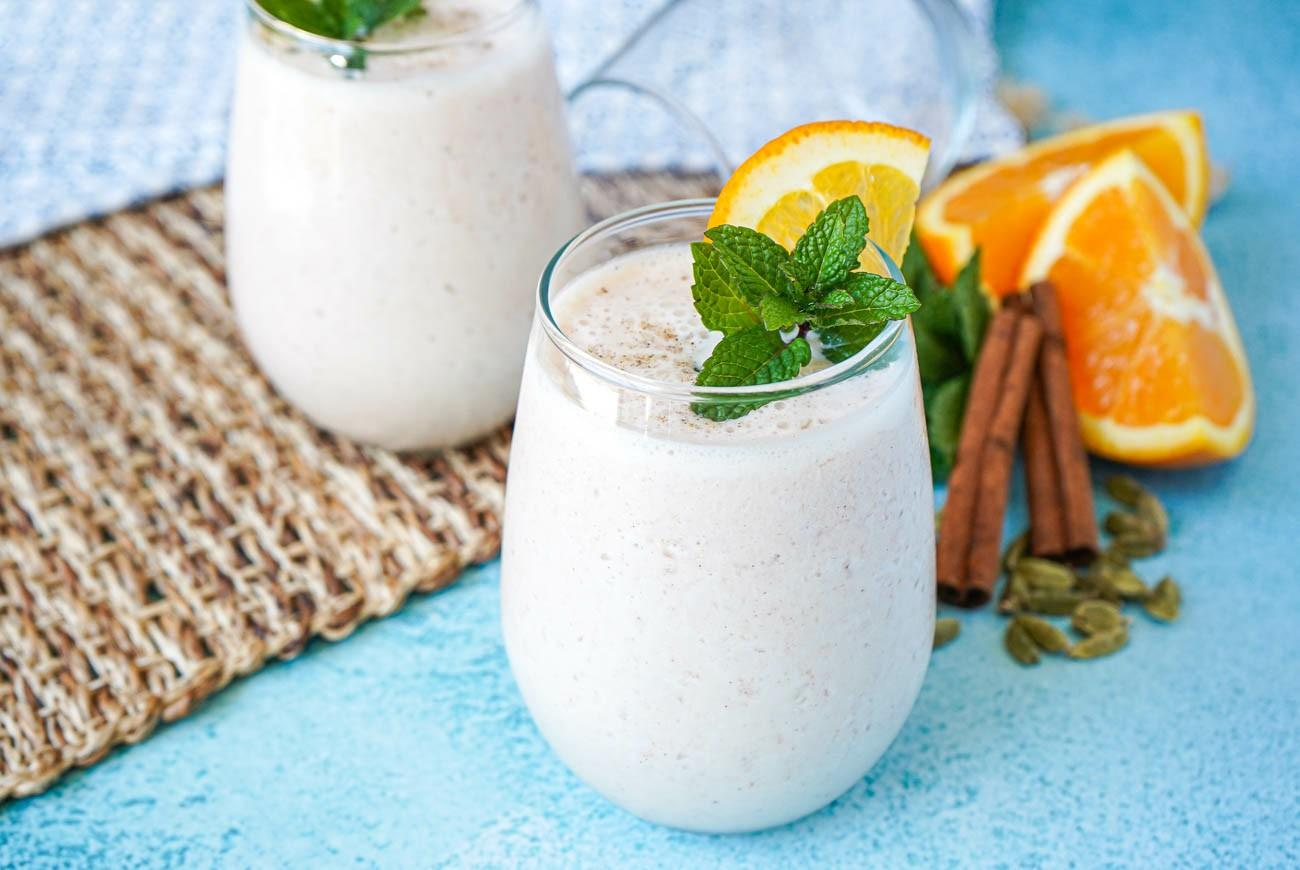Lassi: (503, 246, 936, 833), (224, 0, 579, 447)
